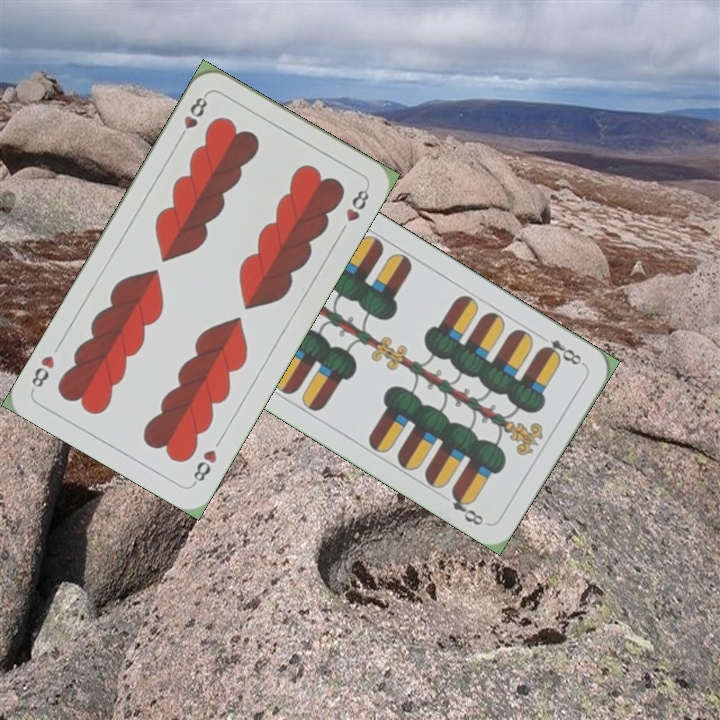E8: (535, 330, 588, 369)
H8: (174, 90, 210, 144), (189, 445, 220, 488)
